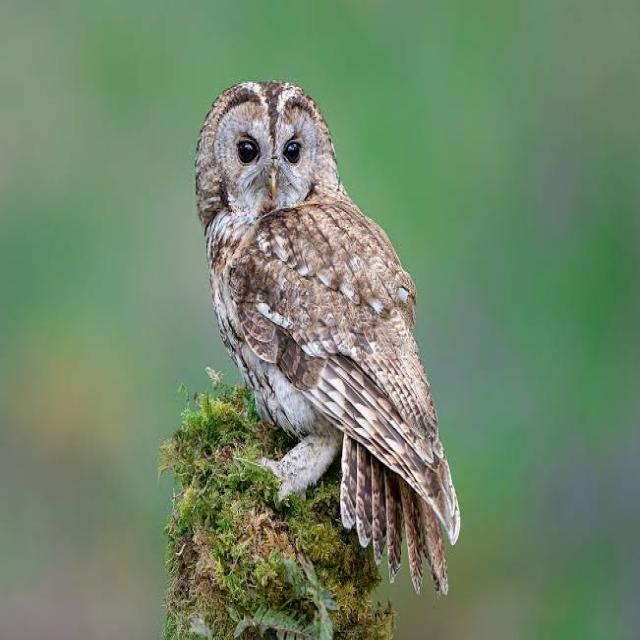tawny owl: (158, 58, 498, 602)
